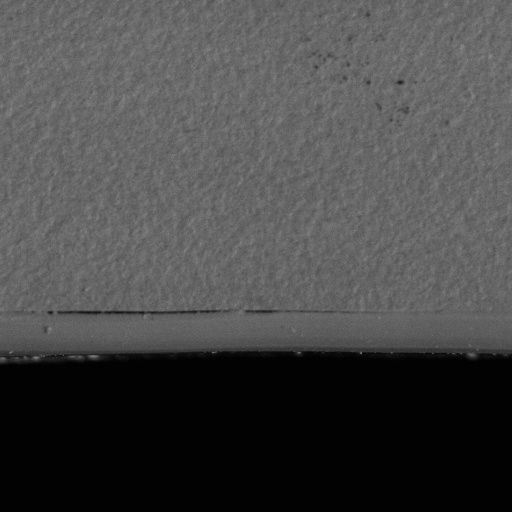jiaofeng: (37, 302, 284, 325)
